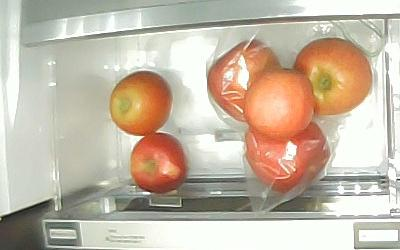apple: (293, 38, 373, 117), (244, 67, 315, 138), (110, 71, 173, 136), (130, 133, 187, 193)
apple_vinyl: (207, 39, 283, 123), (244, 119, 330, 193)
